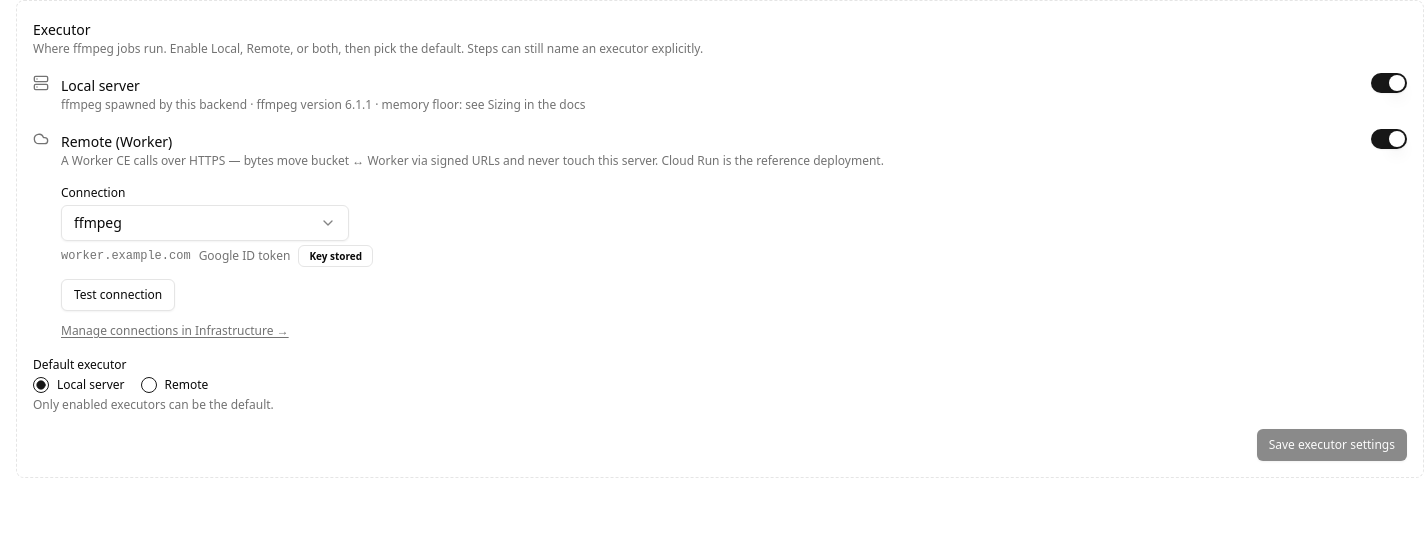
Test: FfmpegExecutorSettings › Test connection sends the picked connection and renders the worker facts
The width and height of the screenshot is (1424, 559).
Click the button "Test connection" at (118, 295), box [61,279,175,311]
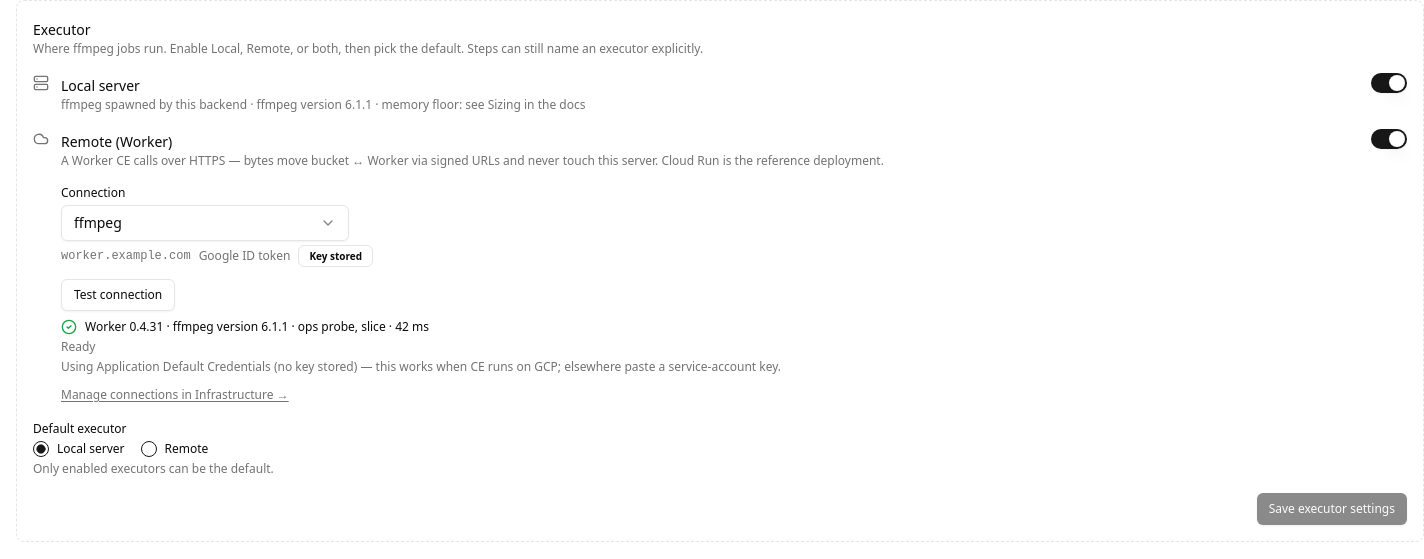
Now the text "42 ms" is shown, box [85,319,429,335]
Now the text "Using Application Default Credentials" is shown, box [61,358,781,375]
